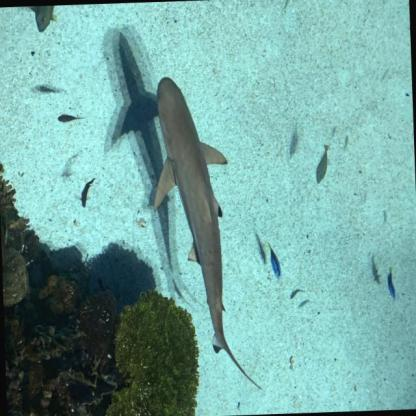fish: (310, 140, 338, 190), (265, 238, 285, 288), (73, 176, 99, 213), (26, 5, 58, 34), (383, 265, 401, 304), (55, 110, 89, 128), (34, 80, 64, 99), (289, 288, 308, 300)
shark: (148, 74, 234, 356)
